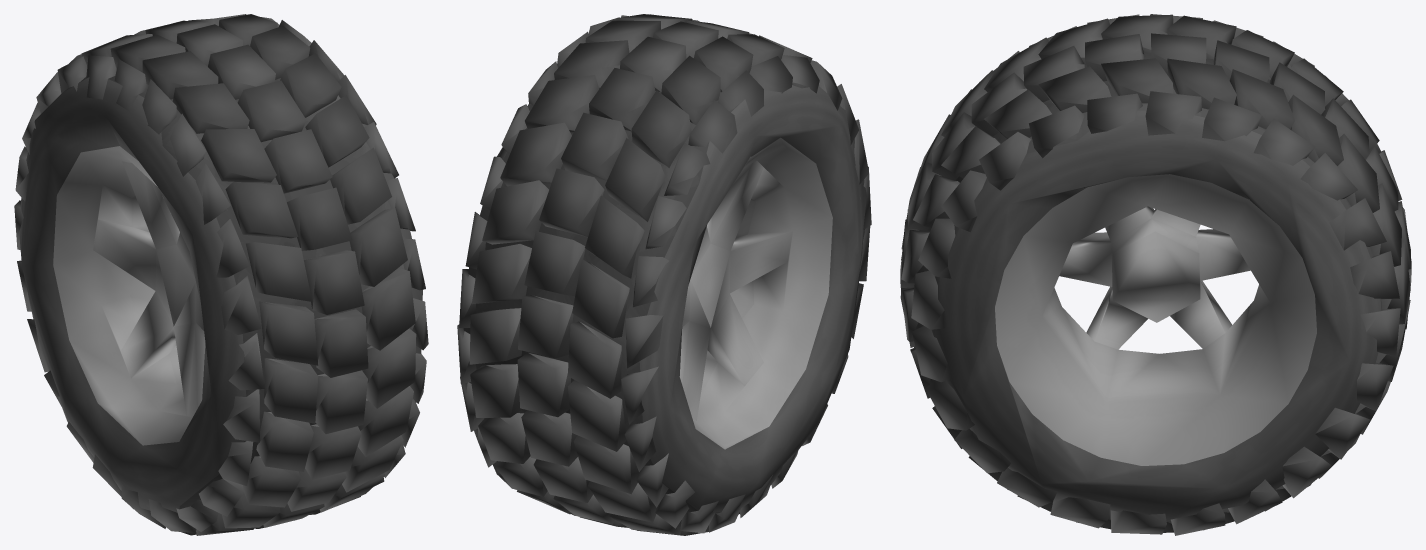
File: LK4_wheel_d3.obj
The picture shows the model from 3 angles, left to right: view 1: azimuth 30°, elevation 25°; view 2: azimuth 150°, elevation 25°; view 3: azimuth 270°, elevation 25°; orthographic projection.
Parts seen in each view (by area): view 1: LK4_wheel_LK4_wheel_DefaultMaterial; view 2: LK4_wheel_LK4_wheel_DefaultMaterial; view 3: LK4_wheel_LK4_wheel_DefaultMaterial.
Part boxes in pixels (left/top/right/bottom): LK4_wheel_LK4_wheel_DefaultMaterial: left=14, top=14, right=428, bottom=535; LK4_wheel_LK4_wheel_DefaultMaterial: left=457, top=14, right=871, bottom=535; LK4_wheel_LK4_wheel_DefaultMaterial: left=900, top=14, right=1411, bottom=535.
Size of the model in its own units: 0.3867 by 0.8324 by 0.8323.
Materials: 1 (1 with a texture image).
